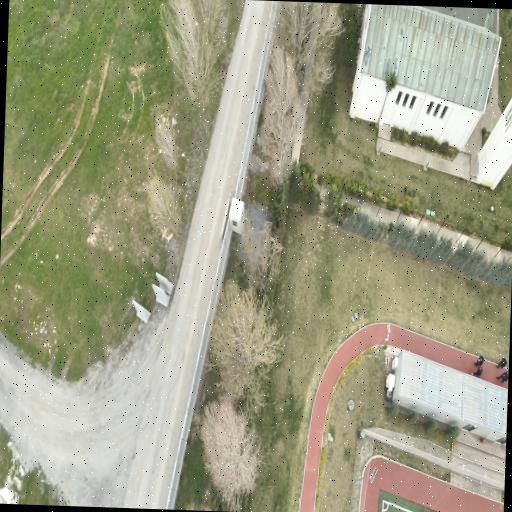person: (497, 371, 508, 382), (472, 367, 483, 377), (497, 358, 507, 368), (475, 356, 484, 366)
